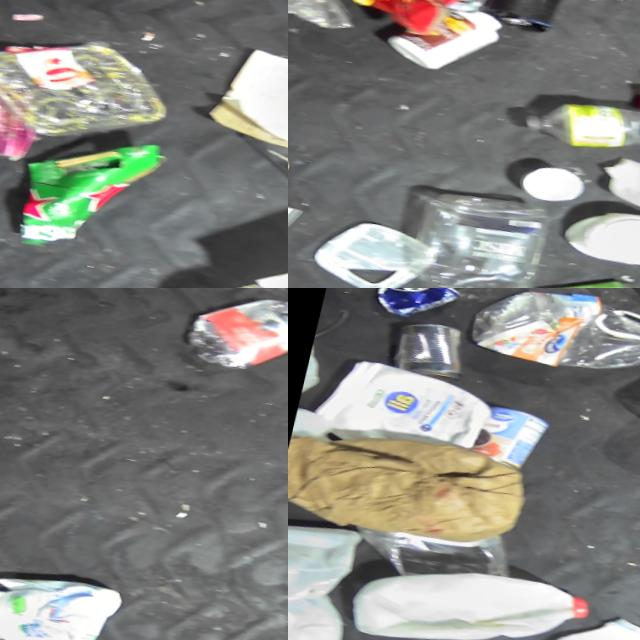can: (468, 402, 553, 477), (388, 317, 474, 386), (371, 288, 466, 329)
milk_jug: (347, 547, 598, 640), (288, 513, 370, 640), (584, 148, 640, 277), (497, 599, 640, 640)
plastic_bottle: (464, 288, 640, 393), (390, 180, 559, 288), (518, 79, 640, 175), (182, 288, 288, 386), (506, 261, 640, 288)
